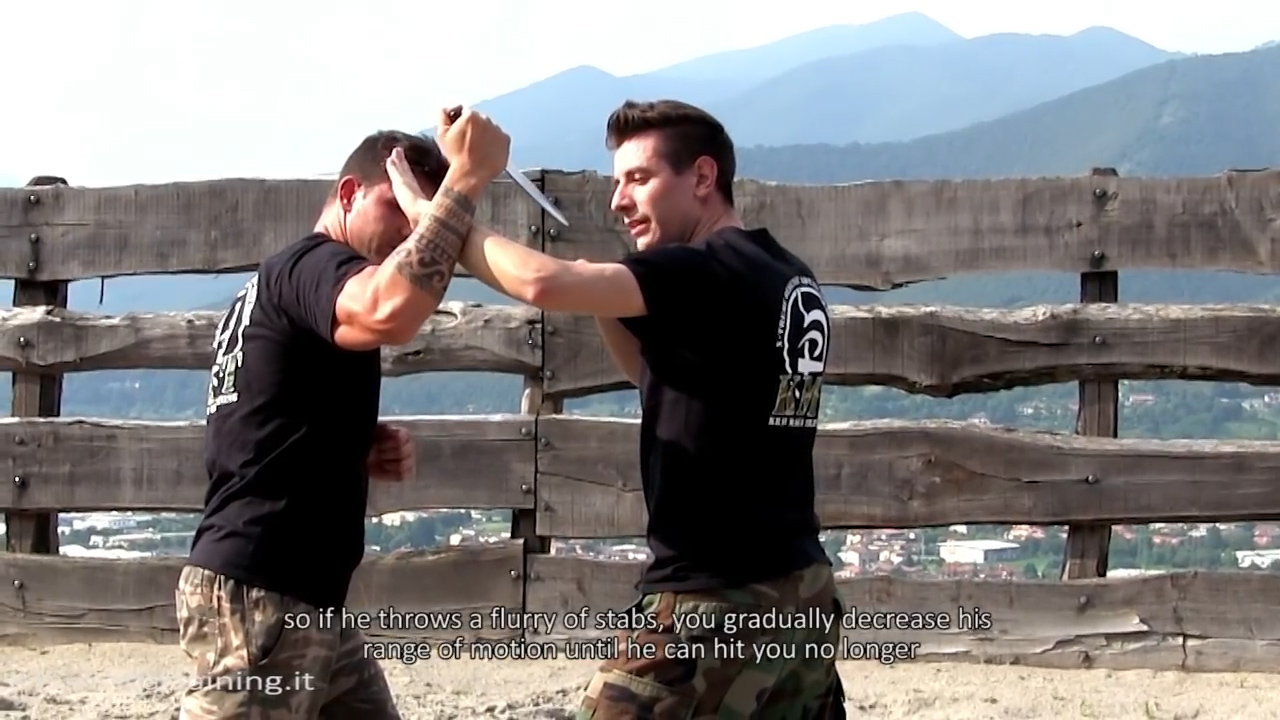knife: (434, 98, 576, 233)
